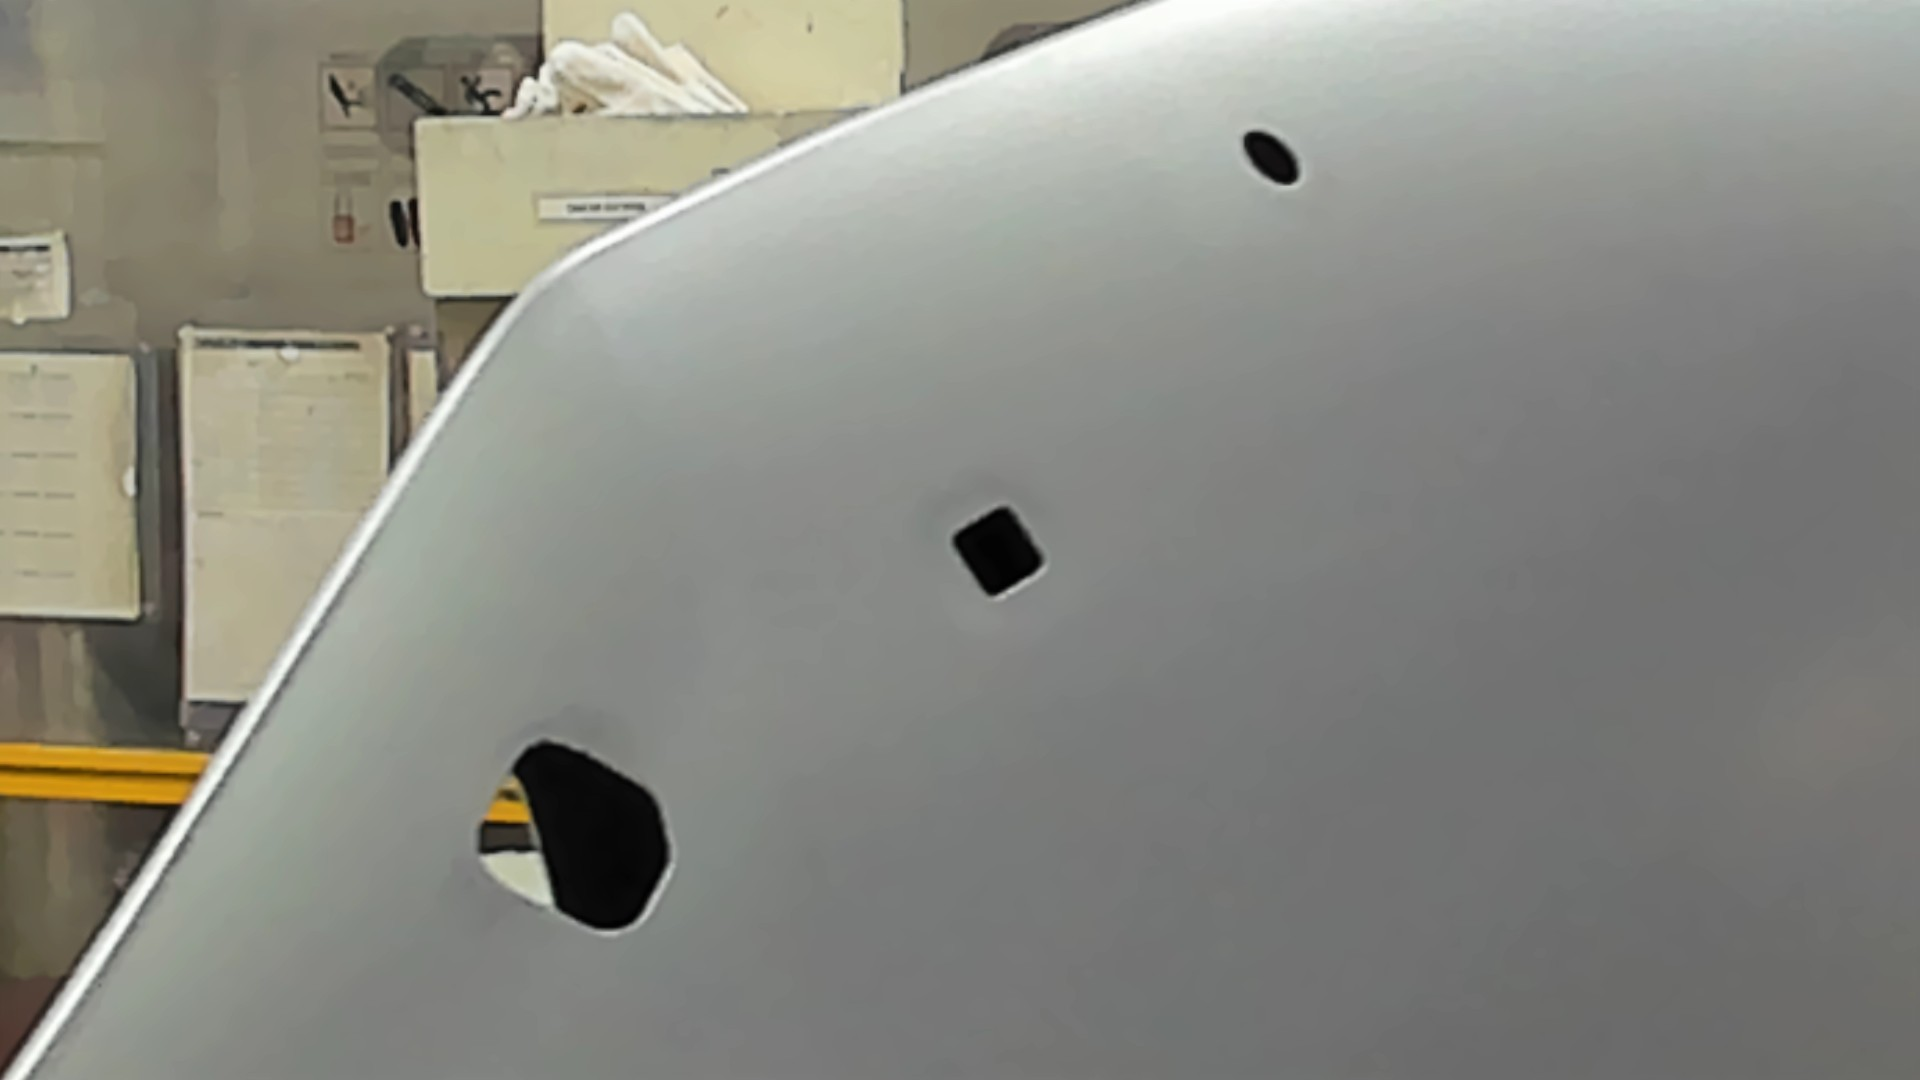chico: (1238, 124, 1304, 193)
grande: (471, 735, 680, 936)
mediano: (943, 498, 1052, 608)
